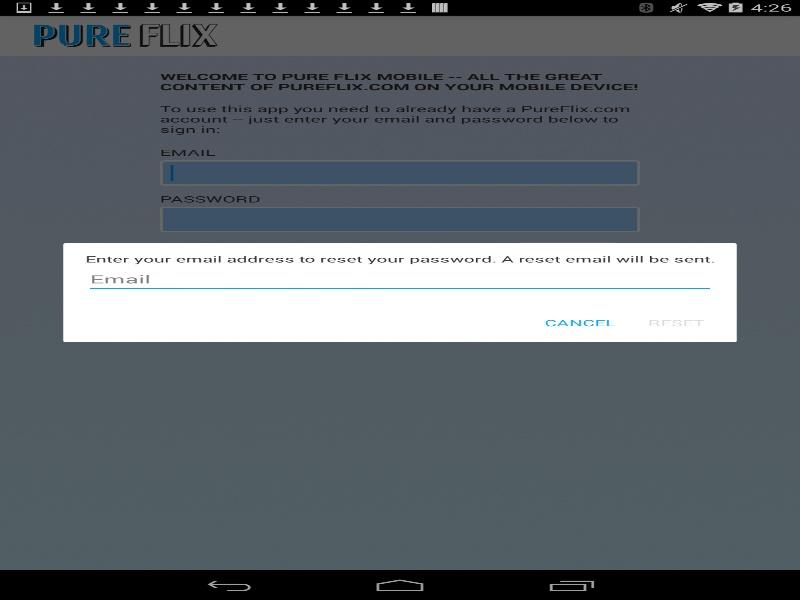Button: (528, 305, 631, 339), (631, 305, 720, 339)
Input: (84, 265, 715, 293)
